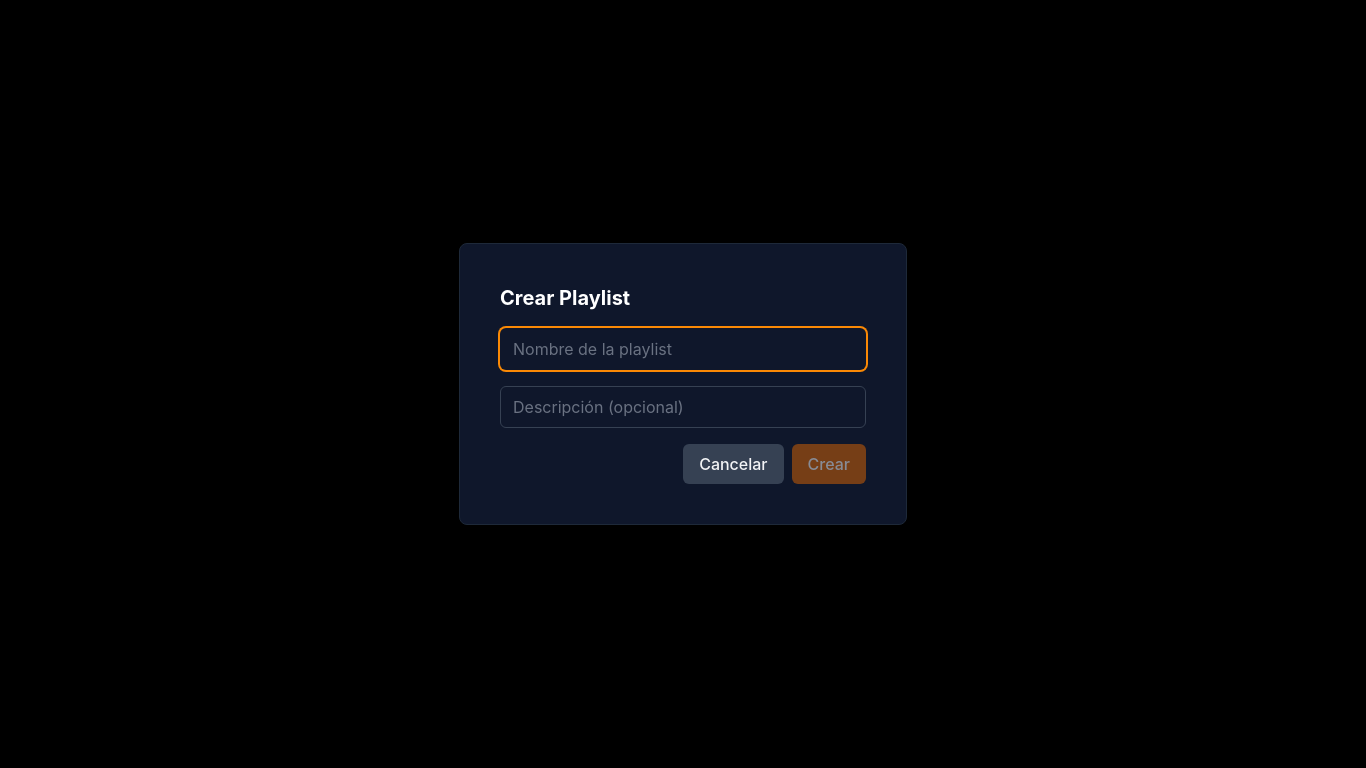
Test case: CreatePlaylistDialog › debería habilitar botón crear cuando hay nombre
Step 1. Type "Mi Playlist" into the field with placeholder "Nombre de la playlist" → (683, 349), box [500,328,866,370]
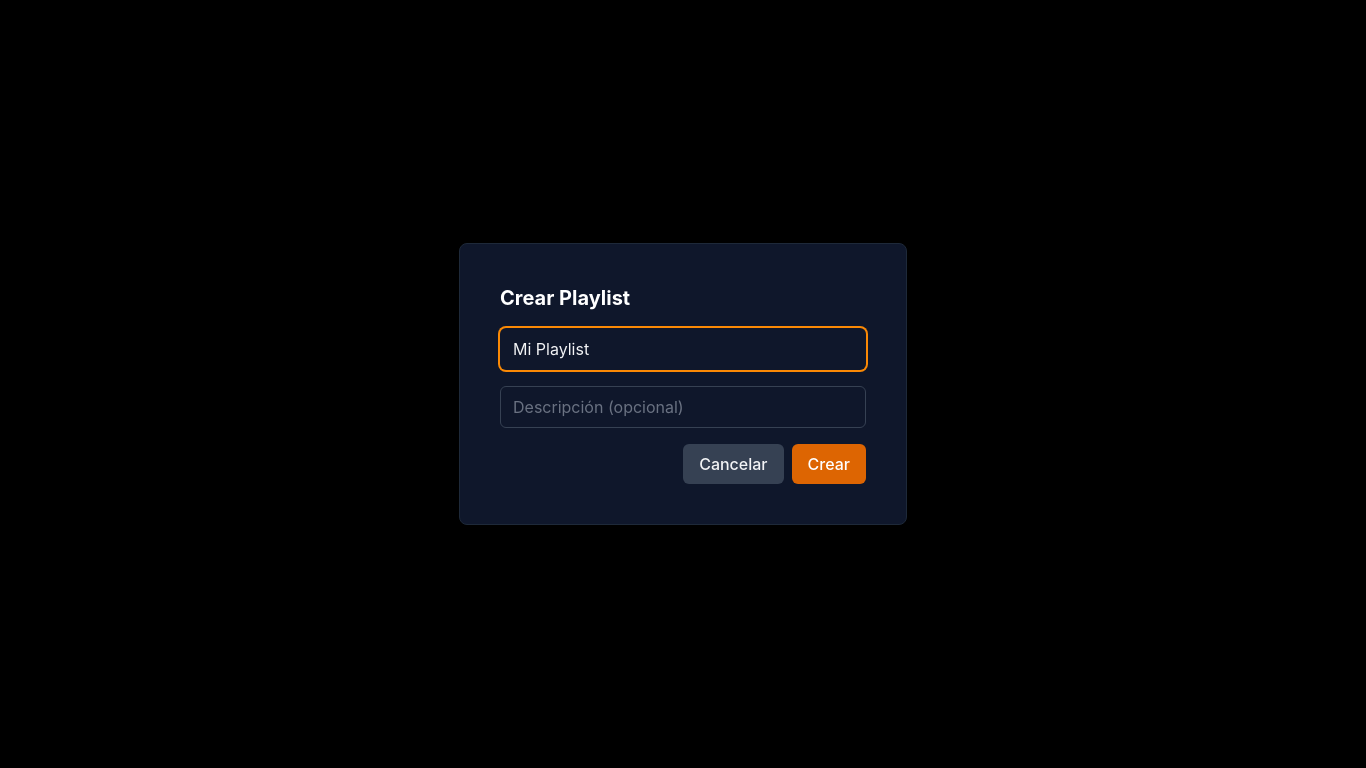
expect the button "Crear" is enabled: met, box [792,444,866,484]
